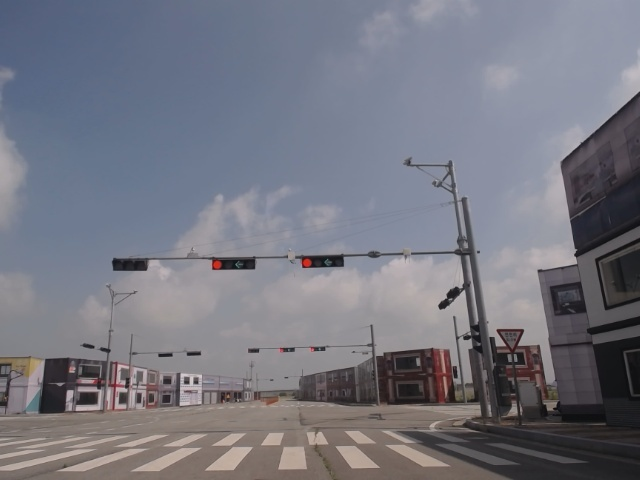left_green_4: (301, 256, 344, 268), (211, 259, 256, 270)
